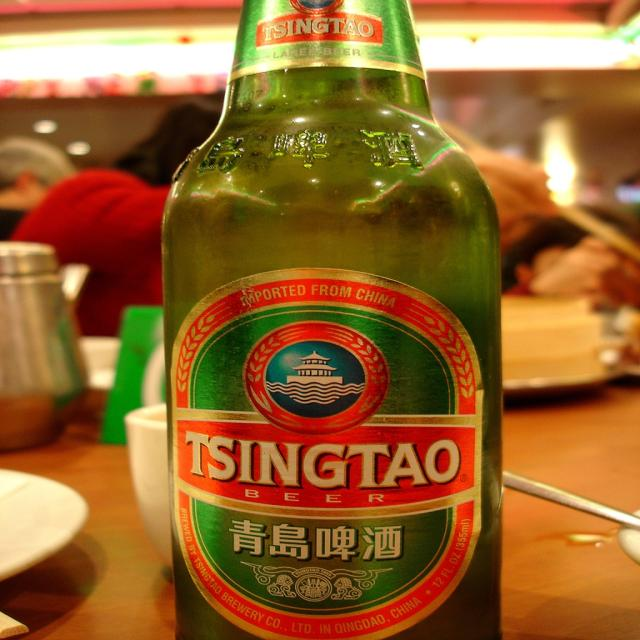tsingtao: (171, 268, 483, 640)
